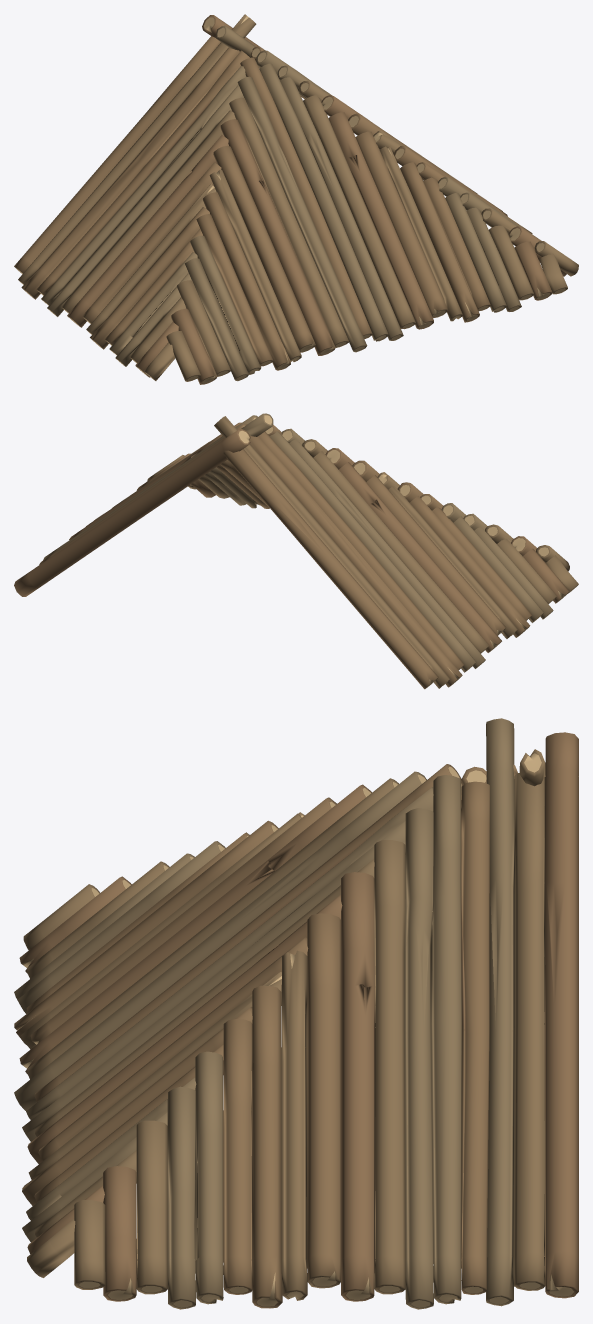
File: rpgpp_ag_roof_01_9x4x3_end_02.fbx
3 renders of one model, top to bottom at view 1: azimuth 30°, elevation 25°; view 2: azimuth 150°, elevation 25°; view 3: azimuth 270°, elevation 25°, orthographic. The views are drawn at different scales.
Visible parts, largest first — view 1: rpgpp_ag_roof_01_9x4x3_end_02; view 2: rpgpp_ag_roof_01_9x4x3_end_02; view 3: rpgpp_ag_roof_01_9x4x3_end_02.
Boxes of the visible parts, x1,y1,x2,y2 form: rpgpp_ag_roof_01_9x4x3_end_02: (14, 14, 578, 384); rpgpp_ag_roof_01_9x4x3_end_02: (14, 413, 578, 689); rpgpp_ag_roof_01_9x4x3_end_02: (14, 718, 578, 1309).
Size of the model in its own units: 11.14 by 5.52 by 7.13.
